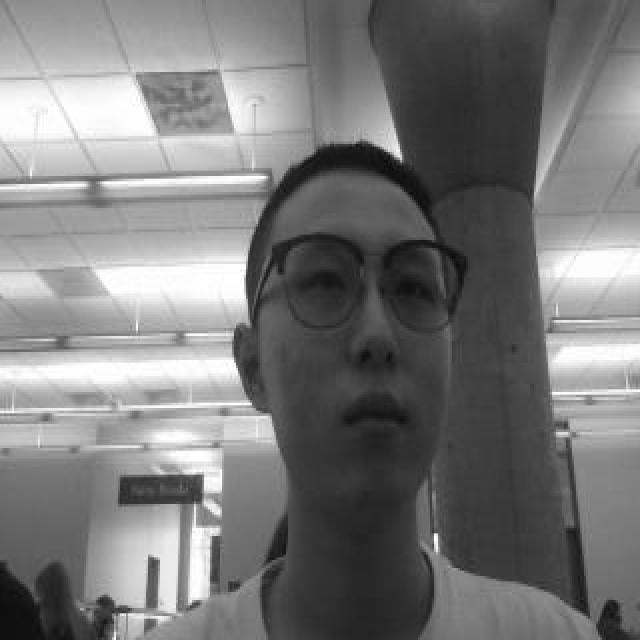Focused: (245, 172, 455, 521)
